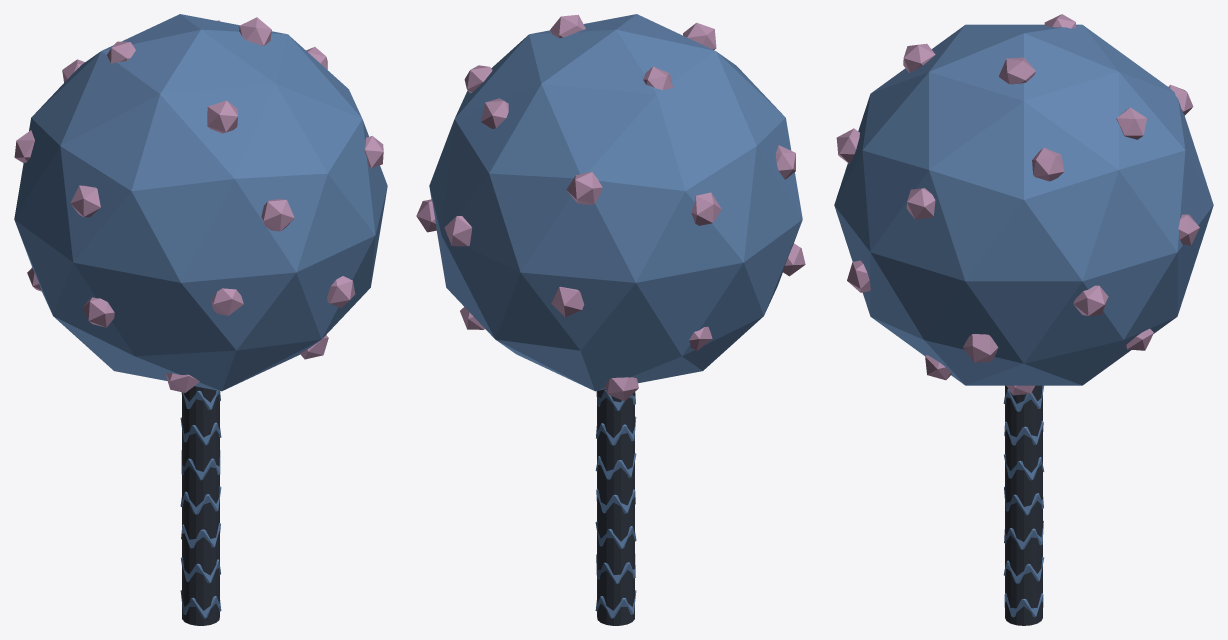
The model's file is Tree Of The Nord.fbx.
The picture shows the model from 3 angles, left to right: view 1: azimuth 30°, elevation 25°; view 2: azimuth 150°, elevation 25°; view 3: azimuth 270°, elevation 25°; orthographic projection.
Visible parts, largest first — view 1: Tree Of The Nord Leaves, Tree Of The Nord Fruits, Tree Of The Nord Trunk, Tree Of The Nord Trunk Deco; view 2: Tree Of The Nord Leaves, Tree Of The Nord Fruits, Tree Of The Nord Trunk, Tree Of The Nord Trunk Deco; view 3: Tree Of The Nord Leaves, Tree Of The Nord Fruits, Tree Of The Nord Trunk, Tree Of The Nord Trunk Deco.
Part boxes in pixels (box(x1,y1,x2,y2)): Tree Of The Nord Leaves: box(14, 14, 387, 391); Tree Of The Nord Fruits: box(14, 17, 383, 392); Tree Of The Nord Trunk: box(182, 386, 219, 625); Tree Of The Nord Trunk Deco: box(180, 390, 221, 618); Tree Of The Nord Leaves: box(429, 14, 802, 391); Tree Of The Nord Fruits: box(416, 14, 805, 401); Tree Of The Nord Trunk: box(597, 389, 634, 625); Tree Of The Nord Trunk Deco: box(595, 390, 636, 618); Tree Of The Nord Leaves: box(834, 24, 1213, 385); Tree Of The Nord Fruits: box(836, 14, 1199, 395); Tree Of The Nord Trunk: box(1005, 385, 1042, 625); Tree Of The Nord Trunk Deco: box(1003, 385, 1044, 617).
Size of the model in its own units: 193 by 342 by 200.
